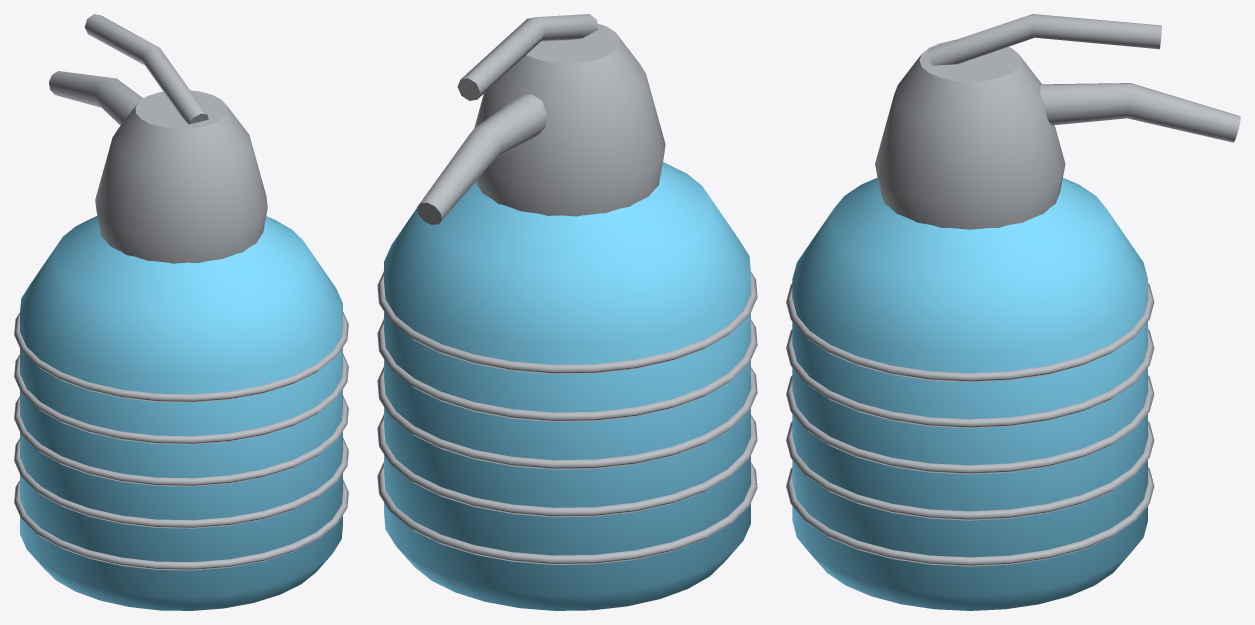
File: seltzer.fbx
The picture shows the model from 3 angles, left to right: view 1: azimuth 30°, elevation 25°; view 2: azimuth 150°, elevation 25°; view 3: azimuth 270°, elevation 25°; orthographic projection. The views are drawn at different scales.
Parts seen in each view (by area): view 1: Seltzer Bottle; view 2: Seltzer Bottle; view 3: Seltzer Bottle.
Boxes of the visible parts, x1,y1,x2,y2 form: Seltzer Bottle: [14, 14, 348, 610]; Seltzer Bottle: [377, 14, 757, 610]; Seltzer Bottle: [786, 14, 1240, 610].
Size of the model in its own units: 0.58 by 0.9198 by 0.7162.
